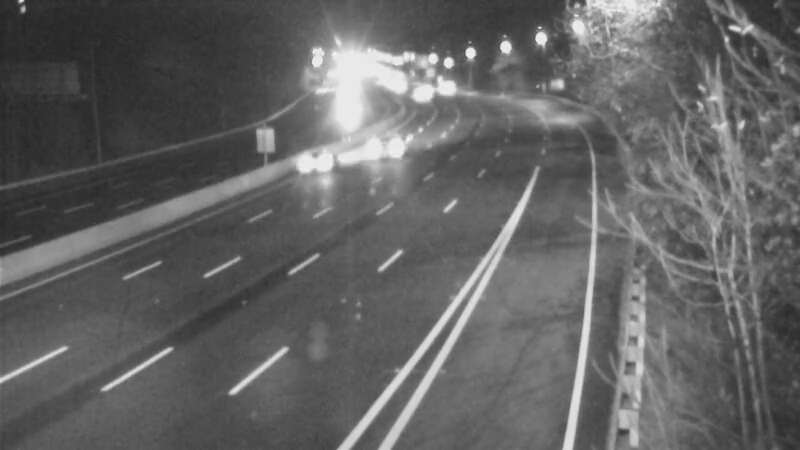vehicle: (272, 123, 352, 203), (420, 63, 470, 113), (396, 70, 446, 120), (365, 121, 415, 171), (315, 77, 365, 127)
